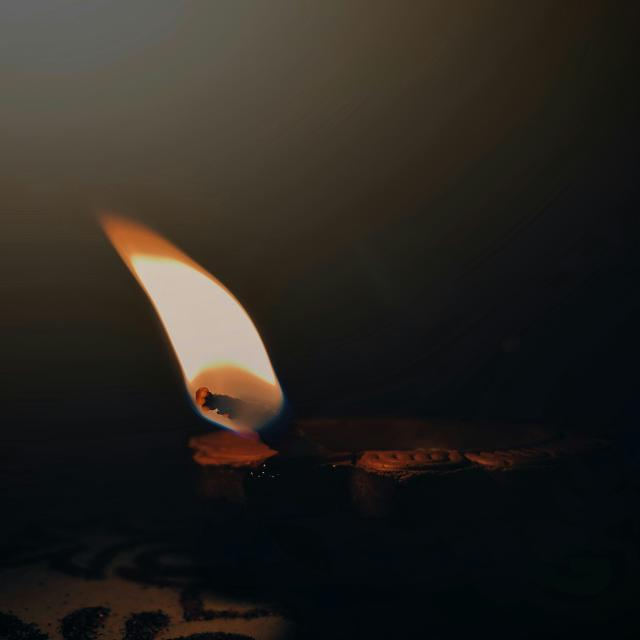fire: (98, 213, 283, 432)
